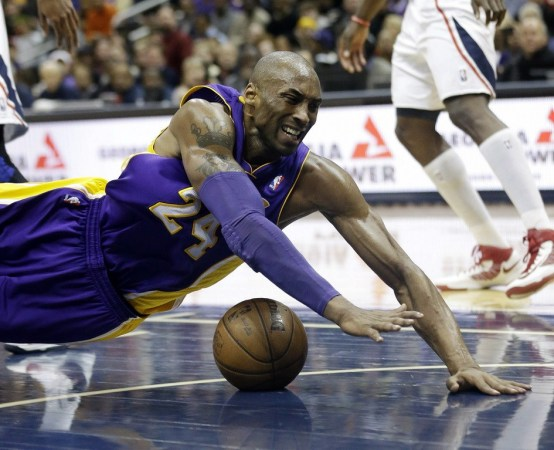fall: (3, 49, 541, 400)
